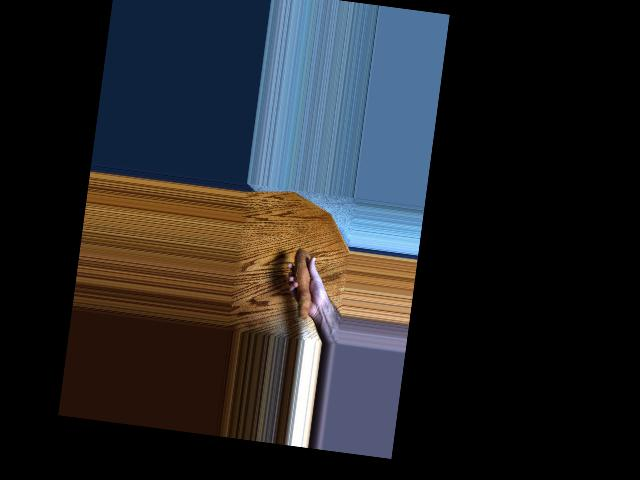sweet_potato: (285, 246, 324, 327)
